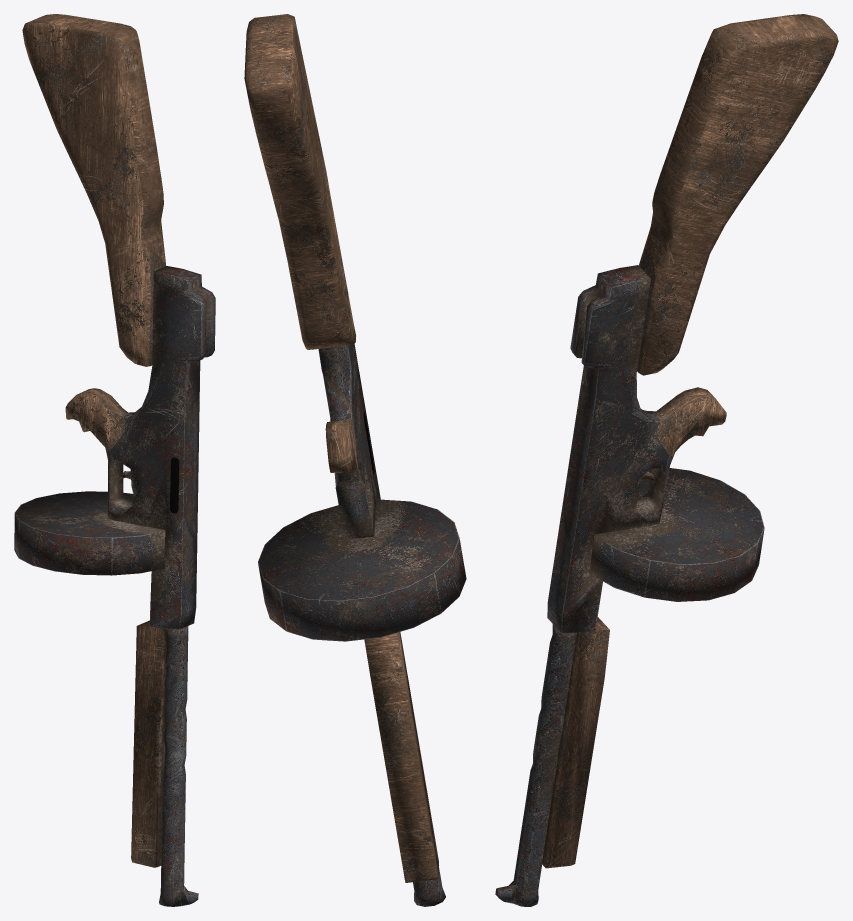
The model's file is Anim_idle_ametralladora_objetos.0017.obj.
3 renders of one model, left to right at view 1: azimuth 30°, elevation 25°; view 2: azimuth 150°, elevation 25°; view 3: azimuth 270°, elevation 25°, orthographic. The views are drawn at different scales.
Parts seen in each view (by area): view 1: Ametralladora1; view 2: Ametralladora1; view 3: Ametralladora1.
Part boxes in pixels (left/top/right/bottom): Ametralladora1: left=14, top=14, right=215, bottom=906; Ametralladora1: left=244, top=14, right=466, bottom=906; Ametralladora1: left=495, top=14, right=838, bottom=906.
Bounding box in the file's own units: 1.21 × 5.92 × 2.07.
